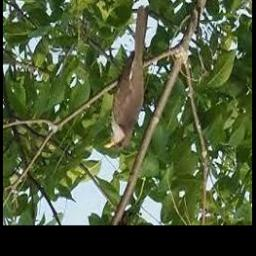Cuckoo: (103, 7, 149, 150)
